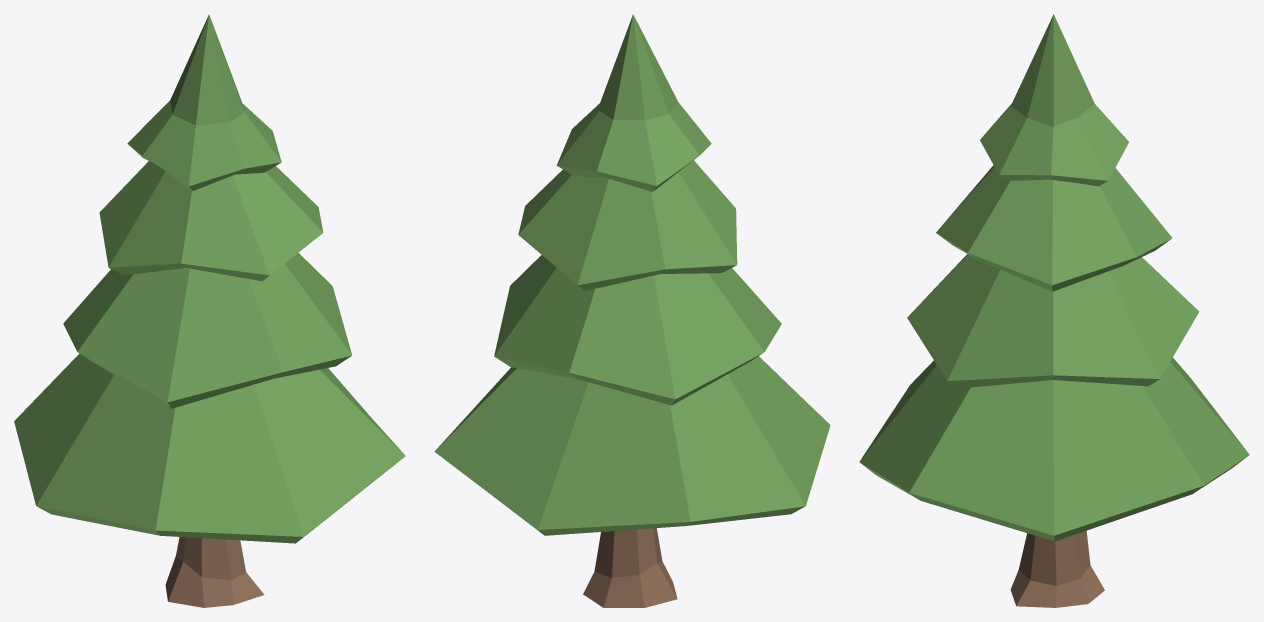
The model's file is BigPinetree.fbx.
3 views of the same model, side by side, from view 1: azimuth 30°, elevation 25°; view 2: azimuth 150°, elevation 25°; view 3: azimuth 270°, elevation 25° (orthographic).
Visible parts, largest first — view 1: Tree_Spruce_small_02; view 2: Tree_Spruce_small_02; view 3: Tree_Spruce_small_02.
Boxes of the visible parts, x1,y1,x2,y2 form: Tree_Spruce_small_02: [14, 14, 405, 607]; Tree_Spruce_small_02: [434, 14, 830, 607]; Tree_Spruce_small_02: [859, 14, 1249, 607].
Bounding box in the file's own units: 1112 × 1825 × 1124.
